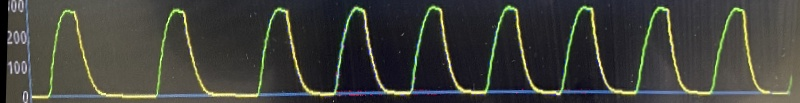normal_volume: (32, 0, 775, 103)
